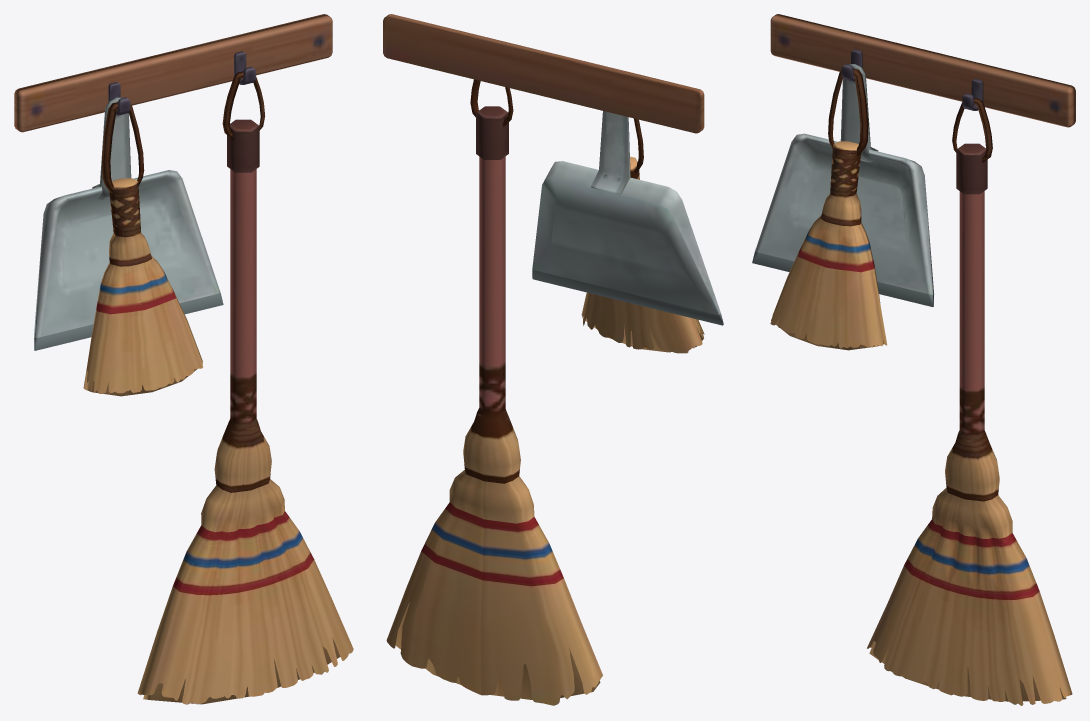
3 views of the same model, side by side, from view 1: azimuth 30°, elevation 25°; view 2: azimuth 150°, elevation 25°; view 3: azimuth 330°, elevation 25° (orthographic). The views are drawn at different scales.
Size of the model in its own units: 7.41 by 14.35 by 1.98.
Materials: 1 (1 with a texture image).
